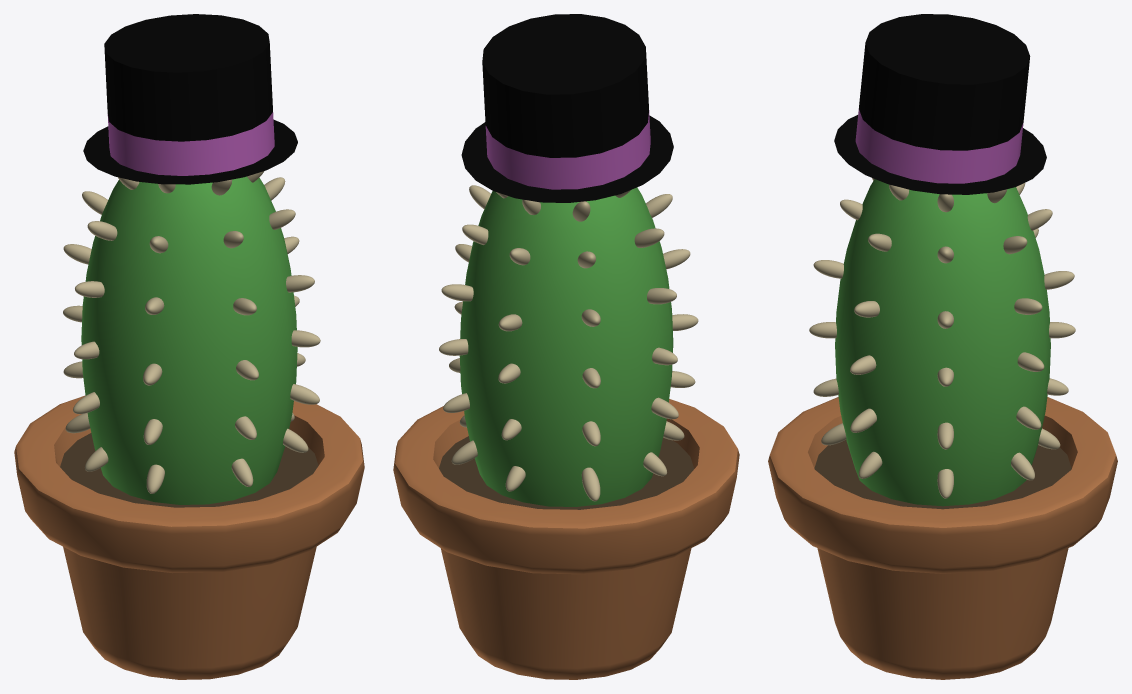
The picture shows the model from 3 angles, left to right: view 1: azimuth 30°, elevation 25°; view 2: azimuth 150°, elevation 25°; view 3: azimuth 270°, elevation 25°; orthographic projection.
Visible parts, largest first — view 1: cactus, flowerpot, hat, Cactus thorns, mud; view 2: cactus, flowerpot, hat, Cactus thorns, mud; view 3: cactus, flowerpot, hat, Cactus thorns, mud.
Boxes of the visible parts, x1,y1,x2,y2 form: cactus: [81, 176, 297, 504]; flowerpot: [14, 395, 364, 679]; hat: [83, 14, 297, 184]; Cactus thorns: [63, 171, 320, 493]; mud: [60, 433, 318, 507]; cactus: [459, 187, 673, 506]; flowerpot: [393, 399, 739, 679]; hat: [461, 14, 673, 202]; Cactus thorns: [439, 185, 698, 501]; mud: [439, 436, 693, 509]; cactus: [835, 179, 1050, 506]; flowerpot: [768, 397, 1117, 679]; hat: [834, 14, 1046, 194]; Cactus thorns: [809, 178, 1075, 498]; mud: [814, 439, 1071, 509].
Size of the model in its own units: 0.5262 by 1 by 0.5262.
